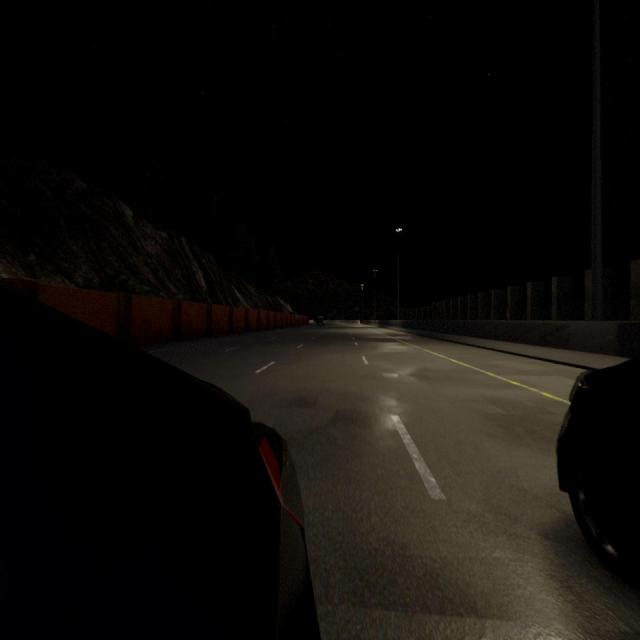Vehicle: (0, 287, 319, 640), (556, 356, 640, 597), (313, 316, 324, 326)
